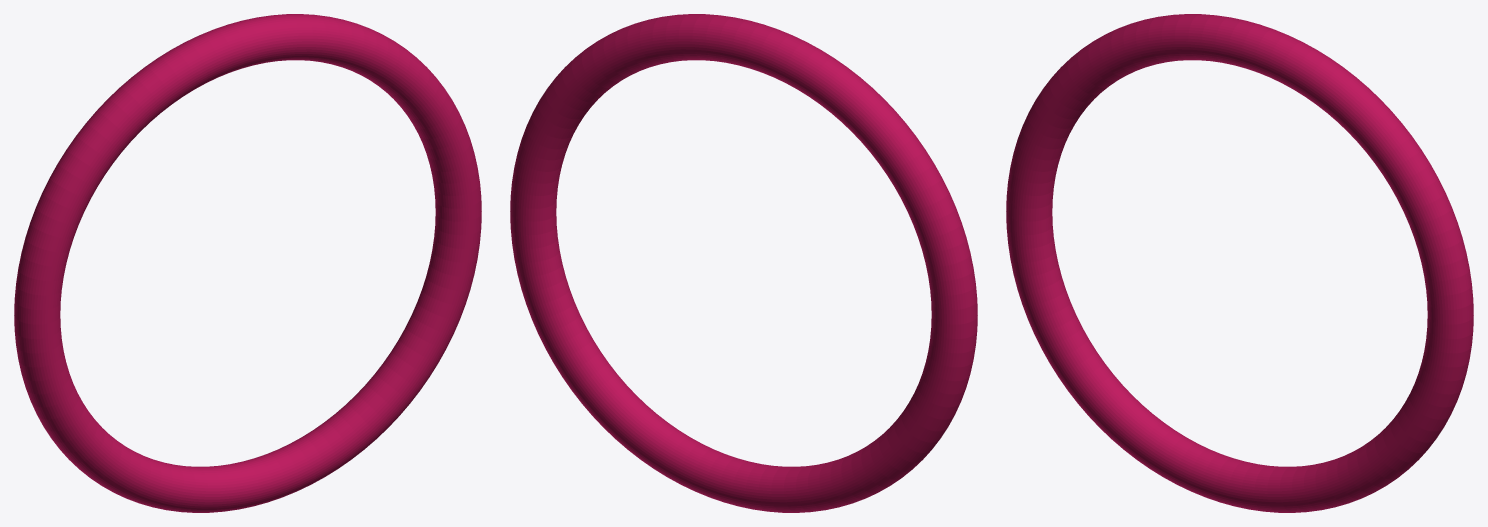
3 views of the same model, side by side, from view 1: azimuth 30°, elevation 25°; view 2: azimuth 150°, elevation 25°; view 3: azimuth 330°, elevation 25° (orthographic).
Parts seen in each view (by area): view 1: world; view 2: world; view 3: world.
Boxes of the visible parts, x1=… form: world: x1=14, y1=14, x2=481, y2=512; world: x1=510, y1=14, x2=977, y2=512; world: x1=1006, y1=14, x2=1473, y2=512.
Size of the model in its own units: 29.2 by 29.2 by 2.53.
